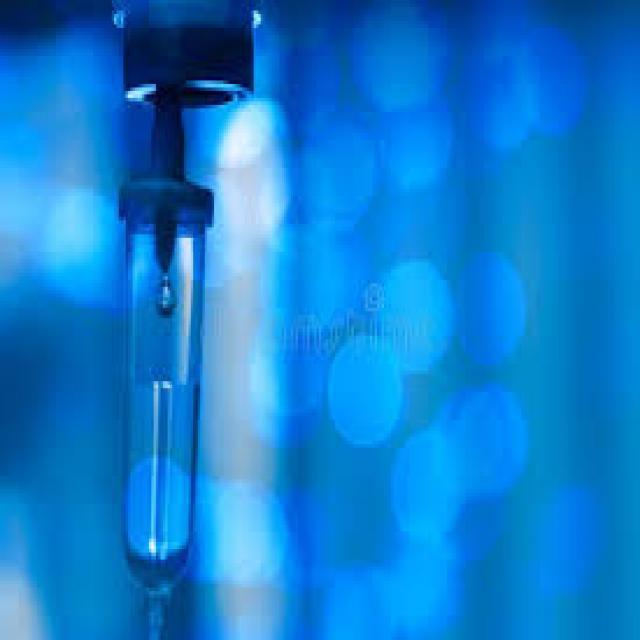iv_fluids: (86, 38, 234, 607)
